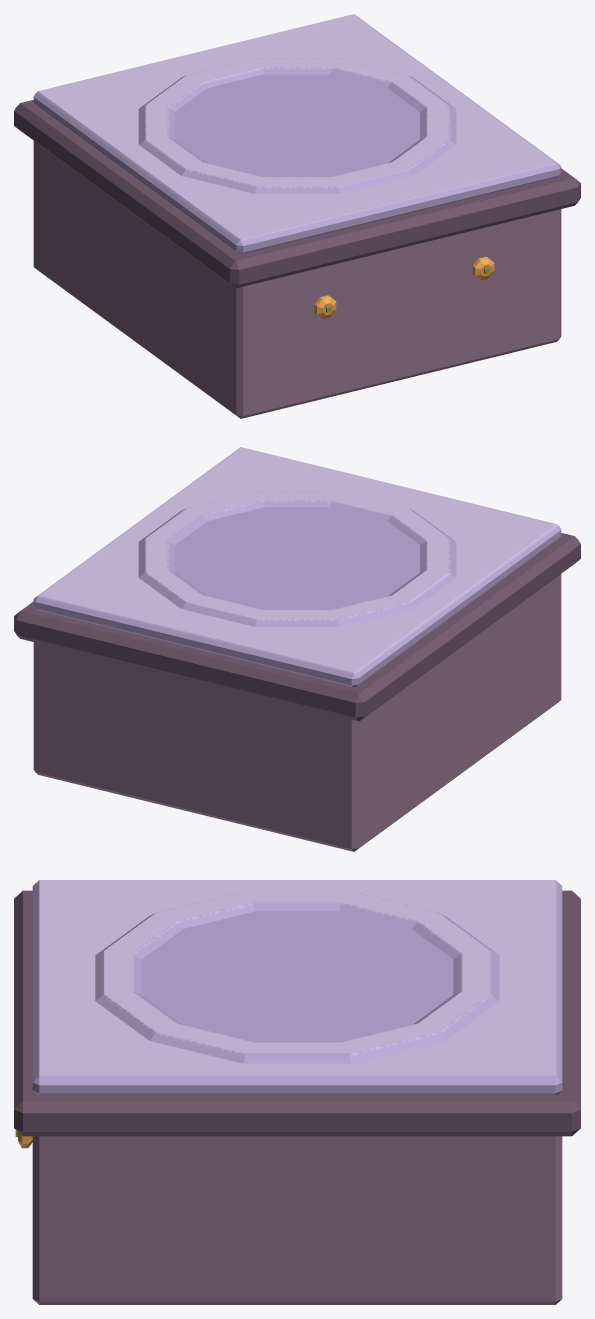
Rendered from PlateTable.fbx.
3 renders of one model, top to bottom at view 1: azimuth 30°, elevation 25°; view 2: azimuth 150°, elevation 25°; view 3: azimuth 270°, elevation 25°, orthographic. The views are drawn at different scales.
Parts seen in each view (by area): view 1: PlateTable; view 2: PlateTable; view 3: PlateTable.
Part boxes in pixels (bbox=[...]): PlateTable: bbox=[14, 14, 580, 418]; PlateTable: bbox=[14, 447, 580, 851]; PlateTable: bbox=[14, 880, 580, 1304].
Size of the model in its own units: 400 by 200 by 439.
Materials: 1 (1 with a texture image).
